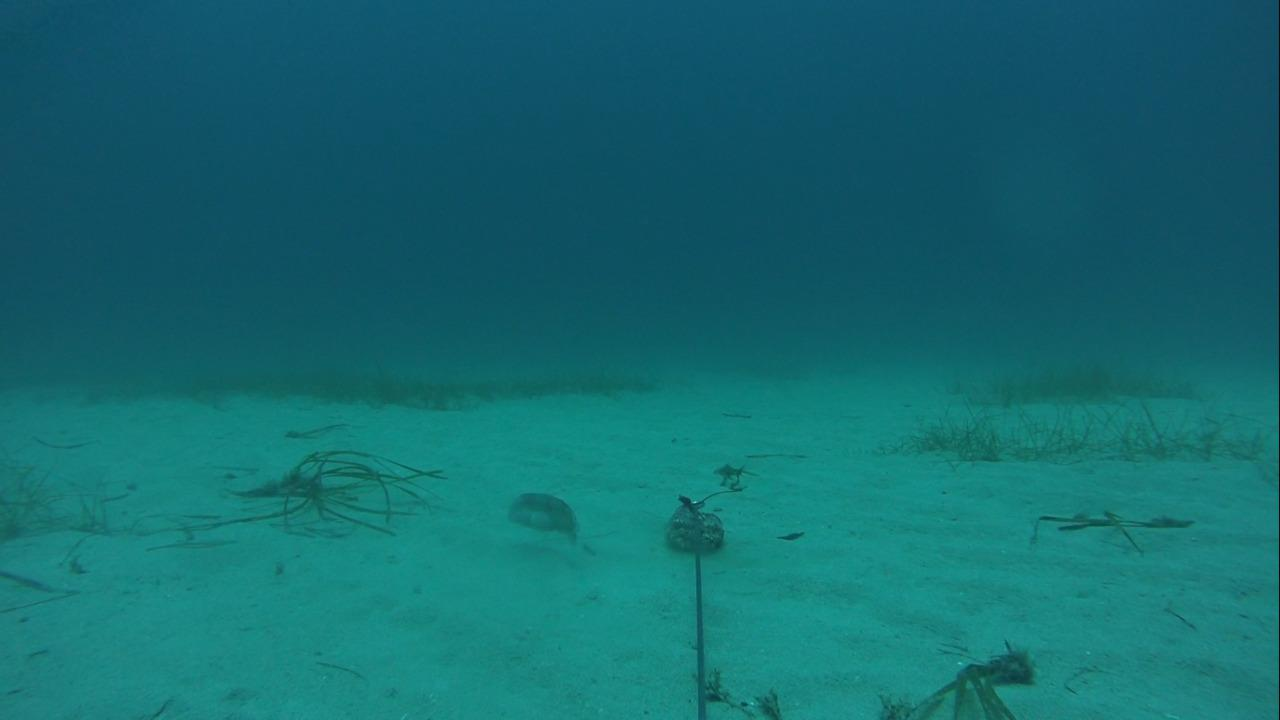raor: (502, 489, 582, 542)
